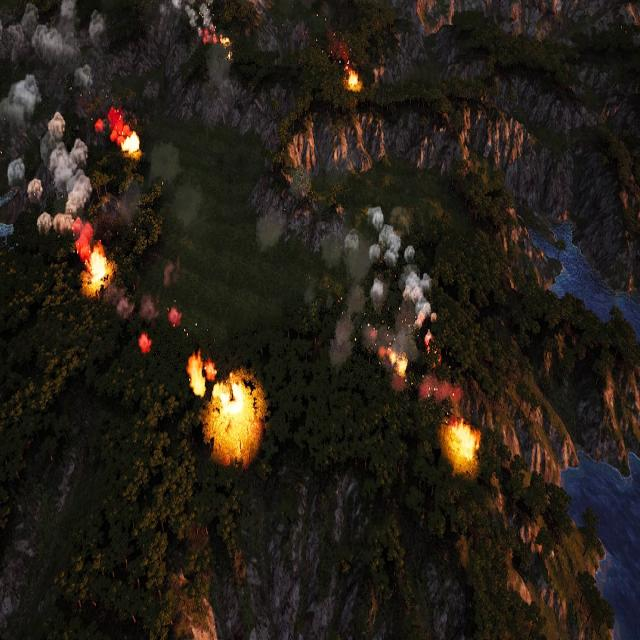fire: (208, 375, 258, 459), (109, 109, 140, 158), (447, 422, 479, 464), (86, 243, 111, 290), (186, 354, 204, 398), (202, 28, 231, 54), (386, 348, 408, 375), (122, 130, 141, 156), (348, 70, 360, 89)
smoke: (0, 0, 107, 241), (331, 206, 434, 368), (157, 138, 205, 328), (112, 287, 181, 353), (160, 0, 216, 43), (2, 74, 41, 125), (327, 32, 349, 68), (6, 158, 25, 188), (169, 304, 182, 328)
